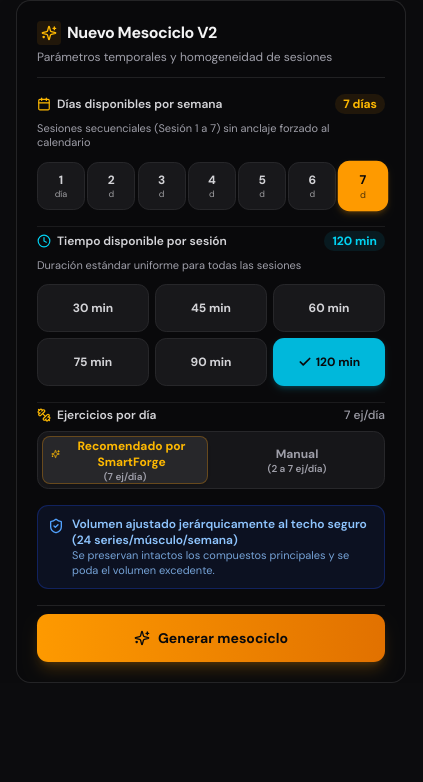
Test: TASK-34: MesocycleWizardV2.tsx — Routine Engine V2 Mesocycle Setup Wizard (RF-03, RF-04, Constitución Art. 2) › Notas pedagógicas contextuales (RF-04 CA-04.4, CA-04.6) › should display volume ceiling note when availability is maximal (e.g. 7 days, 120 min, 7 exercises)
# Switch to manual and select 7 exercises
What coordinates should you click on to do the following:
click the button "Manual (2 a 7 ej/día)"
I would click on:
 (297, 460)
Its box is [214, 436, 380, 484].
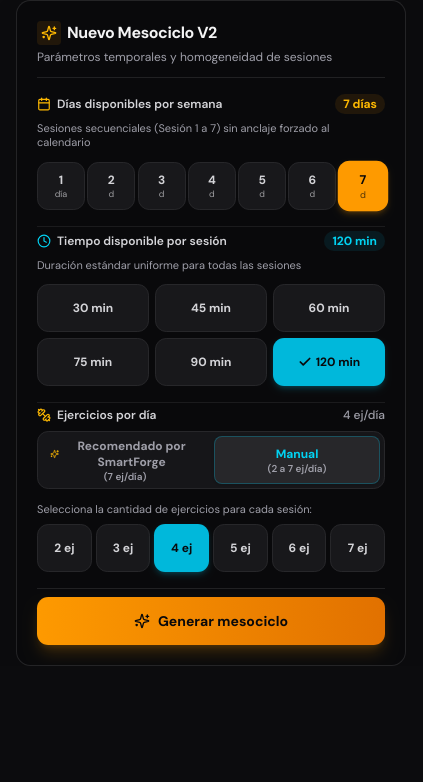
What coordinates should you click on to do the following:
click the button "7 ej"
I would click on:
 (358, 548)
Its box is [330, 524, 385, 572].
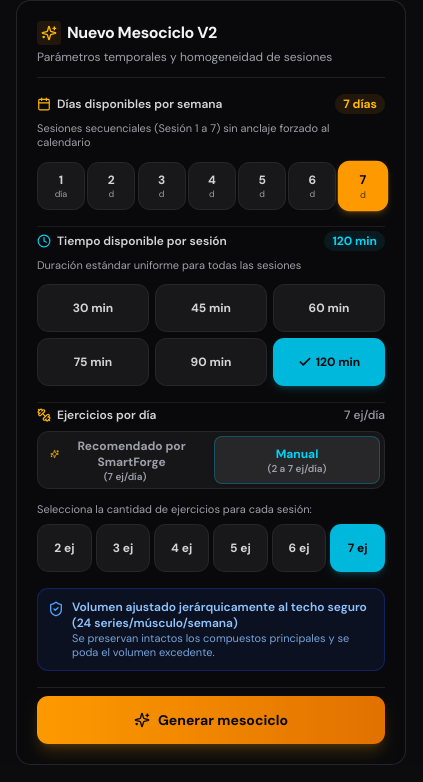
Expected: the text "Volumen ajustado jerárquicamente al techo seguro (24 series/músculo/semana)" is shown, [72, 599, 374, 631]
